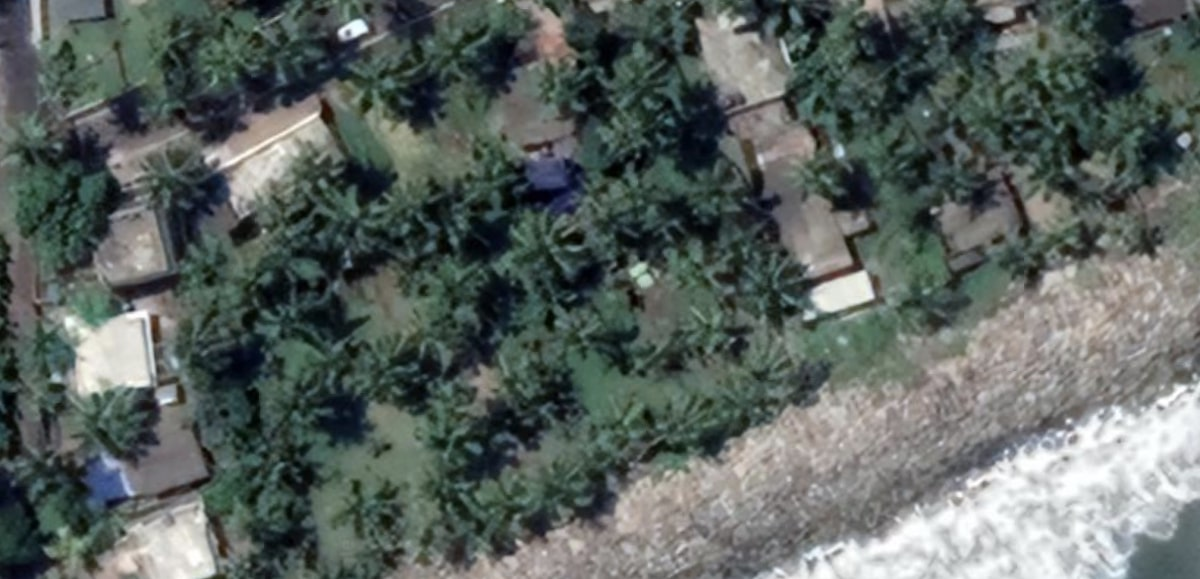coconut: (497, 207, 586, 288), (729, 340, 816, 410), (314, 190, 397, 261), (345, 335, 423, 401), (525, 450, 598, 517), (606, 50, 673, 123), (461, 496, 536, 561), (1089, 97, 1169, 157), (338, 55, 420, 112), (338, 480, 413, 540), (746, 250, 814, 316), (529, 51, 595, 117), (142, 143, 214, 202), (199, 32, 264, 97), (419, 32, 487, 93), (927, 153, 1001, 209), (787, 143, 854, 201), (652, 393, 723, 447), (966, 77, 1025, 134), (673, 302, 737, 351), (833, 67, 893, 119), (589, 401, 651, 450), (866, 136, 920, 184)
